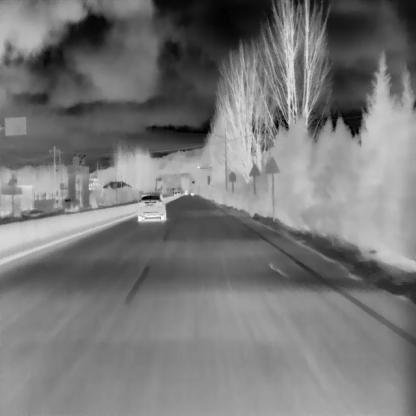car: (137, 195, 166, 220)
